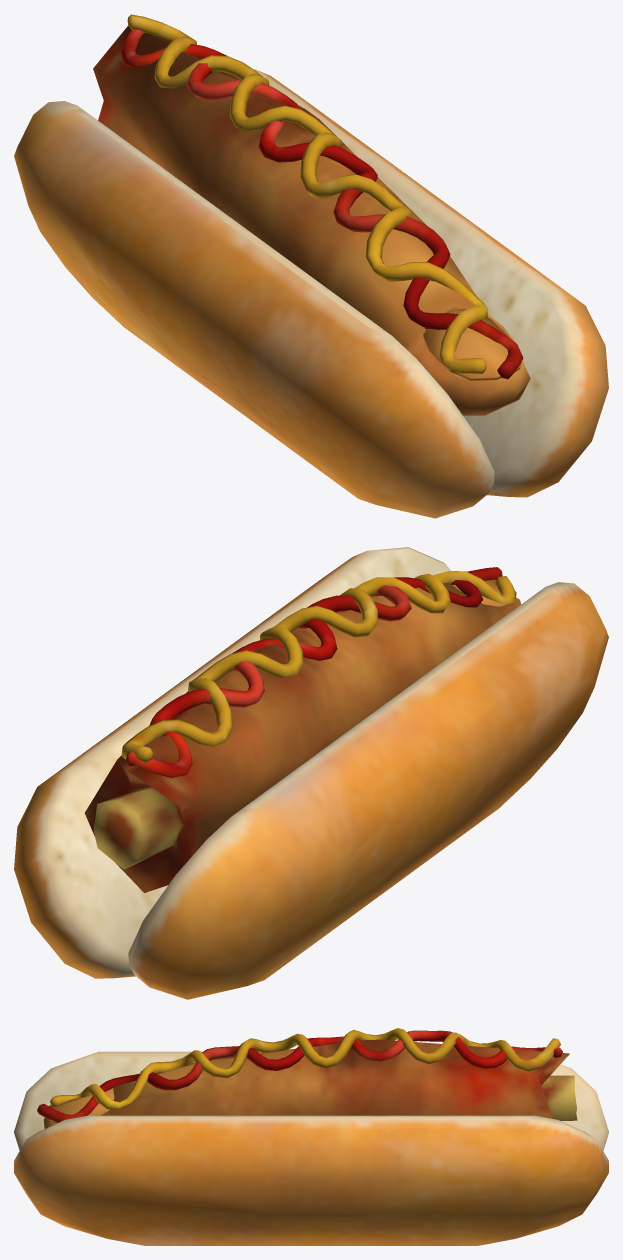
The model's file is human_hotdog_3.fbx.
3 renders of one model, top to bottom at view 1: azimuth 30°, elevation 25°; view 2: azimuth 150°, elevation 25°; view 3: azimuth 270°, elevation 25°, orthographic. The views are drawn at different scales.
Visible parts, largest first — view 1: human_hotdog_3; view 2: human_hotdog_3; view 3: human_hotdog_3.
Part boxes in pixels (x1,y1,x2,y2): human_hotdog_3: [14, 14, 608, 518]; human_hotdog_3: [14, 547, 608, 999]; human_hotdog_3: [14, 1028, 608, 1245].
Size of the model in its own units: 7.19 by 6.51 by 18.
